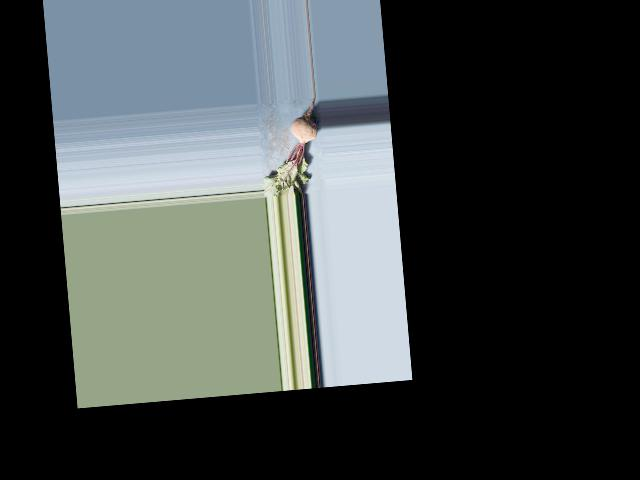beet: (256, 98, 323, 198)
